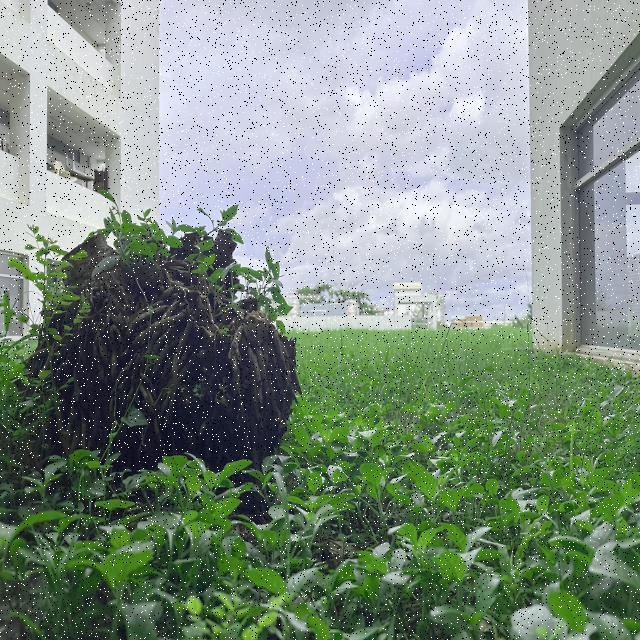lawn: (0, 328, 640, 640)
